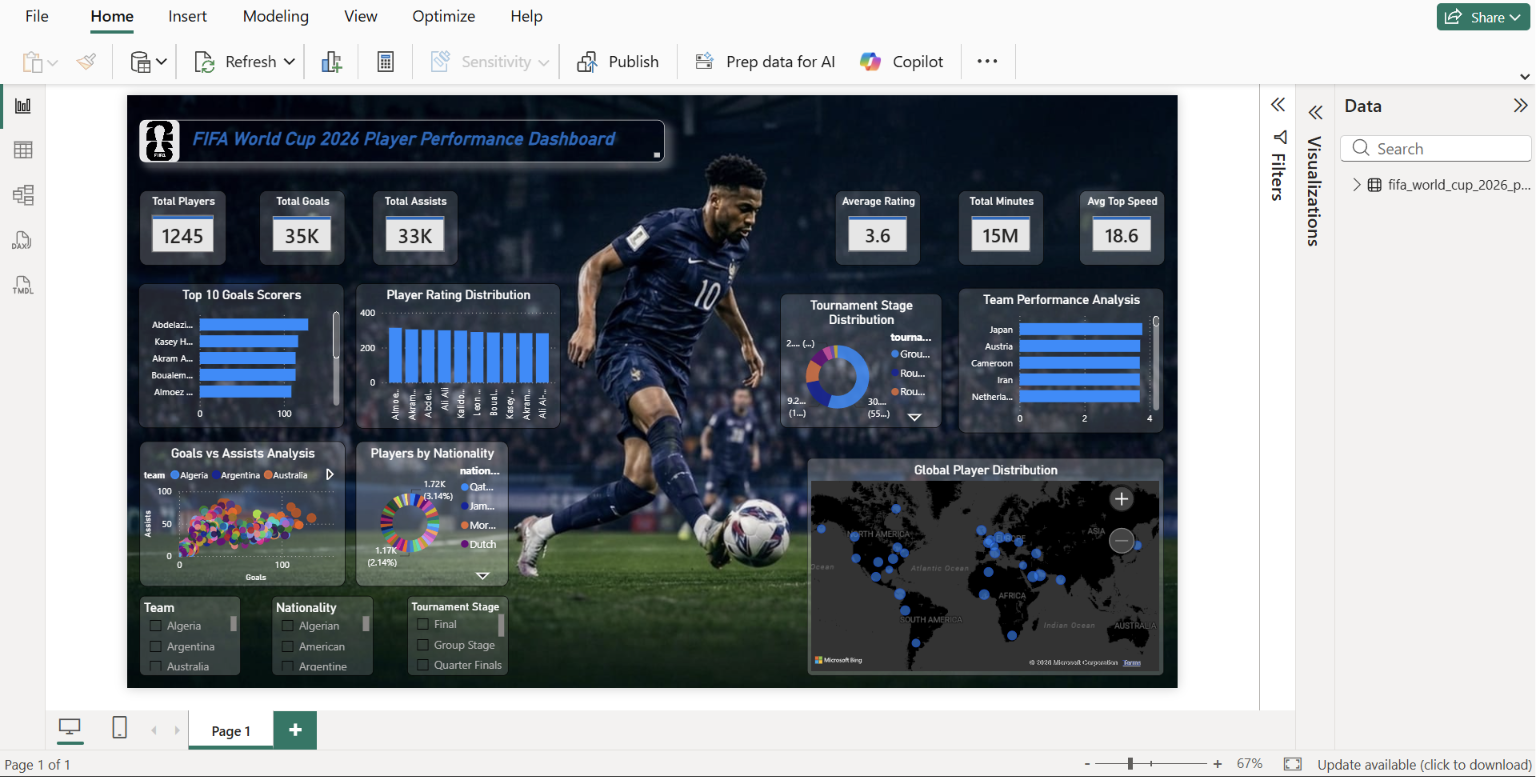

Layout of this report page (visuals, bound fields, positions):
{"tool":"powerbi","page":{"name":"Page 1","canvas":[1400,790],"ordinal":0},"visuals":[{"type":"map","title":"Global Player Distribution","fields":{"Category":["fifa_world_cup_2026_player_perf.nationality"],"Size":["Sum(fifa_world_cup_2026_player_perf.goals)"]},"box":[906.5,483.9,475.8,290.3],"z":0},{"type":"cardVisual","title":"Total Goals","fields":{"Data":["Sum(fifa_world_cup_2026_player_perf.total_goals_tournament)"]},"box":[175.8,127.4,114.5,100],"z":1000},{"type":"cardVisual","title":"Total Assists","fields":{"Data":["Sum(fifa_world_cup_2026_player_perf.total_assists_tournament)"]},"box":[327.4,127.4,114,100],"z":2000},{"type":"cardVisual","title":"Average Rating","fields":{"Data":["Avg(fifa_world_cup_2026_player_perf.tournament_rating)"]},"box":[943.5,127.4,114.5,100],"z":3000},{"type":"cardVisual","title":"Total Minutes ","fields":{"Data":["Sum(fifa_world_cup_2026_player_perf.total_minutes_tournament)"]},"box":[1108.1,127.4,114.5,100],"z":4000},{"type":"clusteredBarChart","title":"Top 10 Goals Scorers","fields":{"Category":["fifa_world_cup_2026_player_perf.player_name"],"Y":["Sum(fifa_world_cup_2026_player_perf.total_goals_tournament)"]},"box":[15.5,250,274.1,193.1],"z":5000},{"type":"clusteredColumnChart","title":"Player Rating Distribution","fields":{"Category":["fifa_world_cup_2026_player_perf.player_name"],"Y":["Sum(fifa_world_cup_2026_player_perf.tournament_rating)"]},"box":[304.8,250,272.6,193.5],"z":6000},{"type":"clusteredBarChart","title":"Team Performance Analysis","fields":{"Category":["fifa_world_cup_2026_player_perf.team"],"Y":["Avg(fifa_world_cup_2026_player_perf.tournament_rating)"]},"box":[1108.1,256.5,274.2,193.5],"z":7000},{"type":"donutChart","title":"Tournament Stage Distribution","fields":{"Category":["fifa_world_cup_2026_player_perf.tournament_stage"],"Y":["CountNonNull(fifa_world_cup_2026_player_perf.player_name)"]},"box":[870.7,263.8,215.5,179.3],"z":8000},{"type":"scatterChart","title":"Goals vs Assists Analysis","fields":{"X":["Sum(fifa_world_cup_2026_player_perf.total_goals_tournament)"],"Y":["Sum(fifa_world_cup_2026_player_perf.total_assists_tournament)"],"Size":["Sum(fifa_world_cup_2026_player_perf.top_speed_kmh)"],"Category":["fifa_world_cup_2026_player_perf.player_name"],"Series":["fifa_world_cup_2026_player_perf.team"]},"box":[16.1,461.3,274.2,193.5],"z":9000},{"type":"cardVisual","title":"Total Players","fields":{"Data":["Count(fifa_world_cup_2026_player_perf.player_name)"]},"box":[16.1,127.4,116,100],"z":10000},{"type":"donutChart","title":"Players by Nationality","fields":{"Category":["fifa_world_cup_2026_player_perf.nationality"],"Y":["CountNonNull(fifa_world_cup_2026_player_perf.player_name)"]},"box":[304.8,461.3,203.2,193.5],"z":11000},{"type":"cardVisual","title":"Avg Top Speed","fields":{"Data":["Avg(fifa_world_cup_2026_player_perf.top_speed_kmh)"]},"box":[1268.3,126.7,114,100],"z":12000},{"type":"slicer","title":"Team","fields":{"Values":["fifa_world_cup_2026_player_perf.team"]},"box":[16.1,667.7,135,106.5],"z":13000},{"type":"slicer","title":"Nationality","fields":{"Values":["fifa_world_cup_2026_player_perf.nationality"]},"box":[191.9,667.7,135.5,106.5],"z":14000},{"type":"slicer","title":"Tournament Stage","fields":{"Values":["fifa_world_cup_2026_player_perf.tournament_stage"]},"box":[372.6,667.7,135,106.5],"z":15000},{"type":"textbox","title":"FIFA World Cup 2026 Player Performance Dashboard","box":[16.1,32.3,700,56.5],"z":16000},{"type":"image","box":[16.1,32.3,53.2,56.5],"z":16001}]}

Visuals, with their boxes on the page's 1400x790 design canvas (x1, y1, x2, y2). These are canvas units, not pixel positions in the 1536x777 screenshot, which may show the page scaled, cropped or inside an application window:
"Global Player Distribution" map: [x1=906, y1=484, x2=1382, y2=774]
"Total Goals" cardVisual: [x1=176, y1=127, x2=290, y2=227]
"Total Assists" cardVisual: [x1=327, y1=127, x2=441, y2=227]
"Average Rating" cardVisual: [x1=944, y1=127, x2=1058, y2=227]
"Total Minutes " cardVisual: [x1=1108, y1=127, x2=1223, y2=227]
"Top 10 Goals Scorers" clusteredBarChart: [x1=16, y1=250, x2=290, y2=443]
"Player Rating Distribution" clusteredColumnChart: [x1=305, y1=250, x2=577, y2=444]
"Team Performance Analysis" clusteredBarChart: [x1=1108, y1=256, x2=1382, y2=450]
"Tournament Stage Distribution" donutChart: [x1=871, y1=264, x2=1086, y2=443]
"Goals vs Assists Analysis" scatterChart: [x1=16, y1=461, x2=290, y2=655]
"Total Players" cardVisual: [x1=16, y1=127, x2=132, y2=227]
"Players by Nationality" donutChart: [x1=305, y1=461, x2=508, y2=655]
"Avg Top Speed" cardVisual: [x1=1268, y1=127, x2=1382, y2=227]
"Team" slicer: [x1=16, y1=668, x2=151, y2=774]
"Nationality" slicer: [x1=192, y1=668, x2=327, y2=774]
"Tournament Stage" slicer: [x1=373, y1=668, x2=508, y2=774]
"FIFA World Cup 2026 Player Performance Dashboard" textbox: [x1=16, y1=32, x2=716, y2=89]
image: [x1=16, y1=32, x2=69, y2=89]
